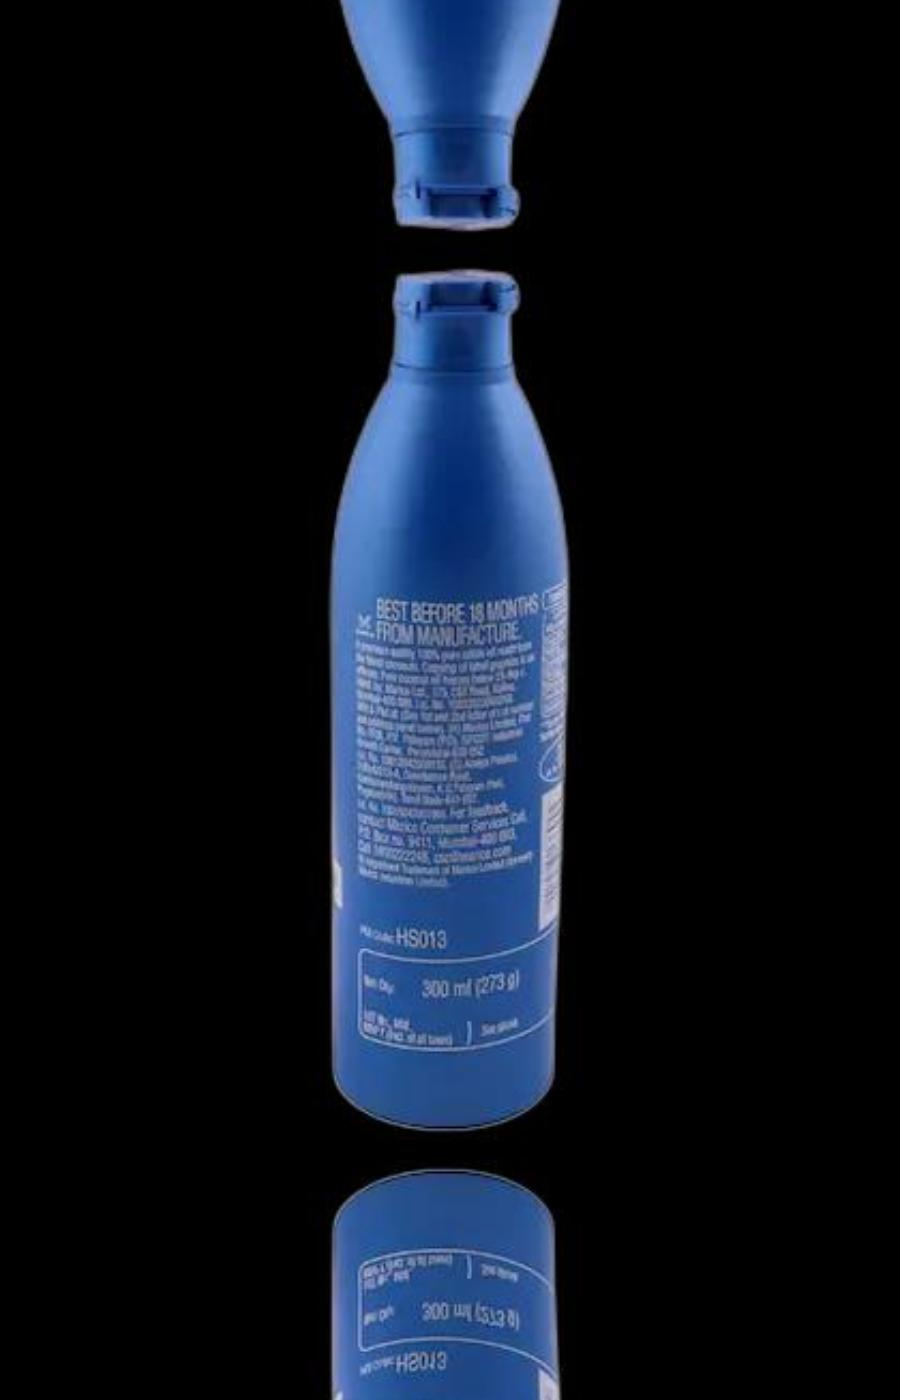Parachute Coconut Oil 300 ml: (317, 267, 568, 1127), (317, 0, 568, 232), (317, 1173, 568, 1400)
